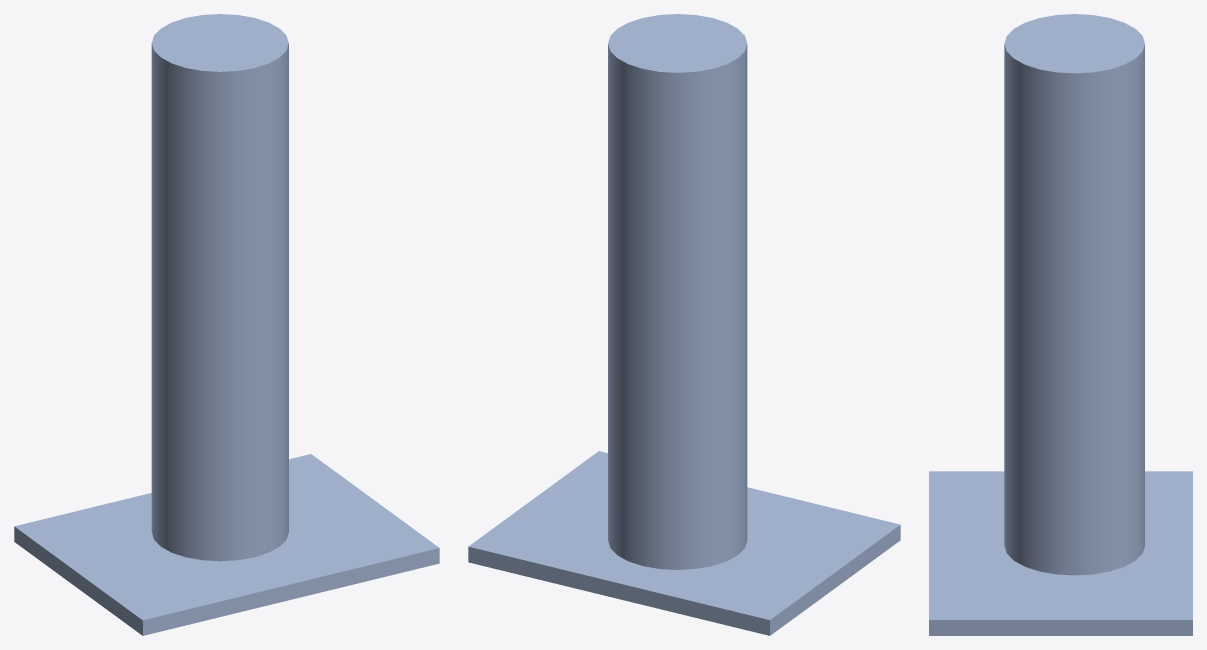
File: Carbon_Dioxide_Unit.glb
3 renders of one model, left to right at view 1: azimuth 30°, elevation 25°; view 2: azimuth 150°, elevation 25°; view 3: azimuth 270°, elevation 25°, orthographic. The views are drawn at different scales.
Parts seen in each view (by area): view 1: Floor1; view 2: Floor1; view 3: Floor1.
Part boxes in pixels (<box>): Floor1: <box>14,14,439,635</box>; Floor1: <box>468,14,900,635</box>; Floor1: <box>929,14,1192,635</box>.
Bounding box in the file's own units: 4 × 6.5 × 3.
